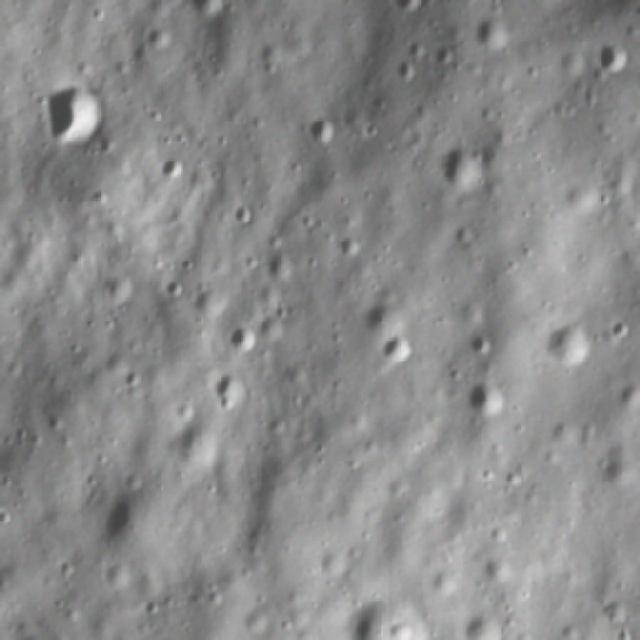crater: (40, 65, 114, 147), (424, 133, 491, 196), (540, 312, 602, 380), (443, 368, 508, 429), (580, 34, 632, 84), (296, 102, 349, 148), (147, 150, 193, 198), (466, 11, 514, 57), (382, 320, 422, 372), (221, 312, 262, 360), (351, 288, 392, 335), (459, 603, 508, 640), (208, 368, 248, 412), (171, 0, 235, 26), (442, 213, 480, 250), (424, 36, 461, 72), (387, 52, 425, 86), (387, 0, 421, 15)
